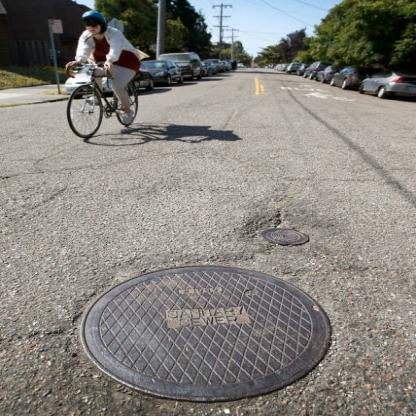manholes: (50, 242, 373, 409)
